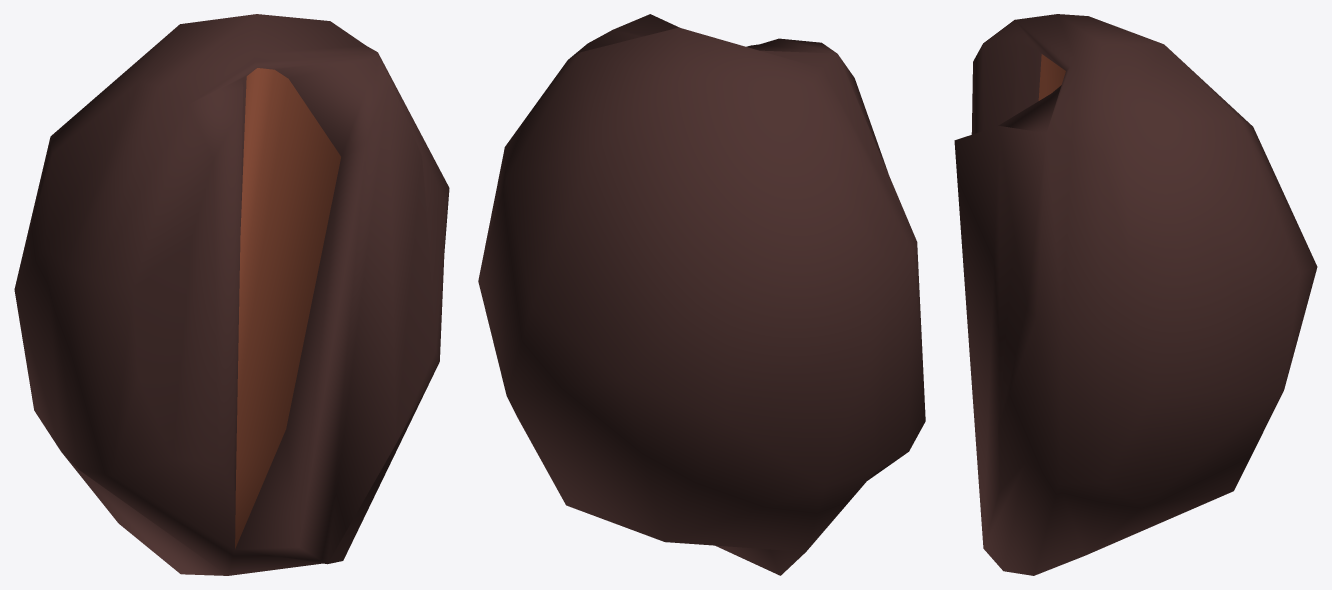
File: CoffeeBean.fbx
3 views of the same model, side by side, from view 1: azimuth 30°, elevation 25°; view 2: azimuth 150°, elevation 25°; view 3: azimuth 270°, elevation 25° (orthographic). The views are drawn at different scales.
Parts seen in each view (by area): view 1: Icosphere.005; view 2: Icosphere.005; view 3: Icosphere.005.
Boxes of the visible parts, x1,y1,x2,y2 form: Icosphere.005: (14, 14, 449, 575); Icosphere.005: (478, 14, 925, 575); Icosphere.005: (954, 14, 1317, 575).
Size of the model in its own units: 299 by 389 by 246.
